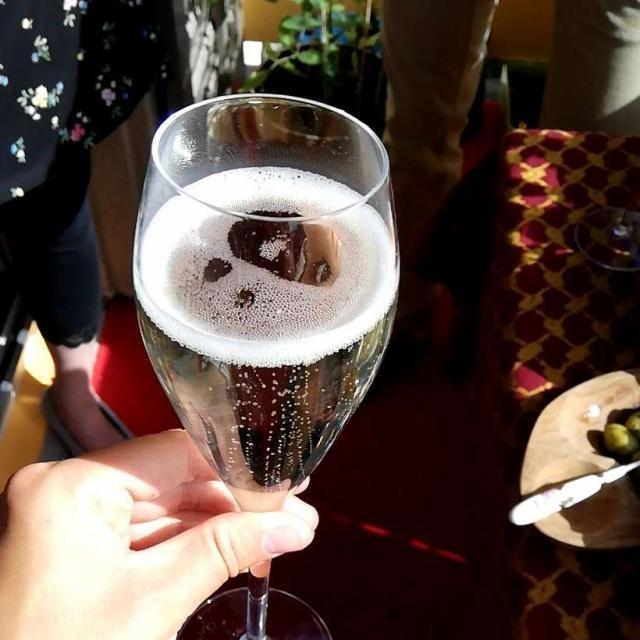sekt: (125, 171, 408, 502)
